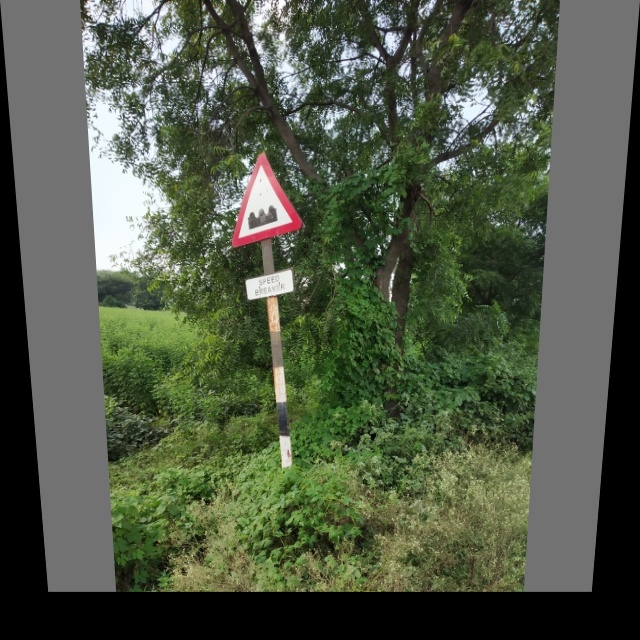Hump_or_Rough_Road: (227, 151, 305, 244)
